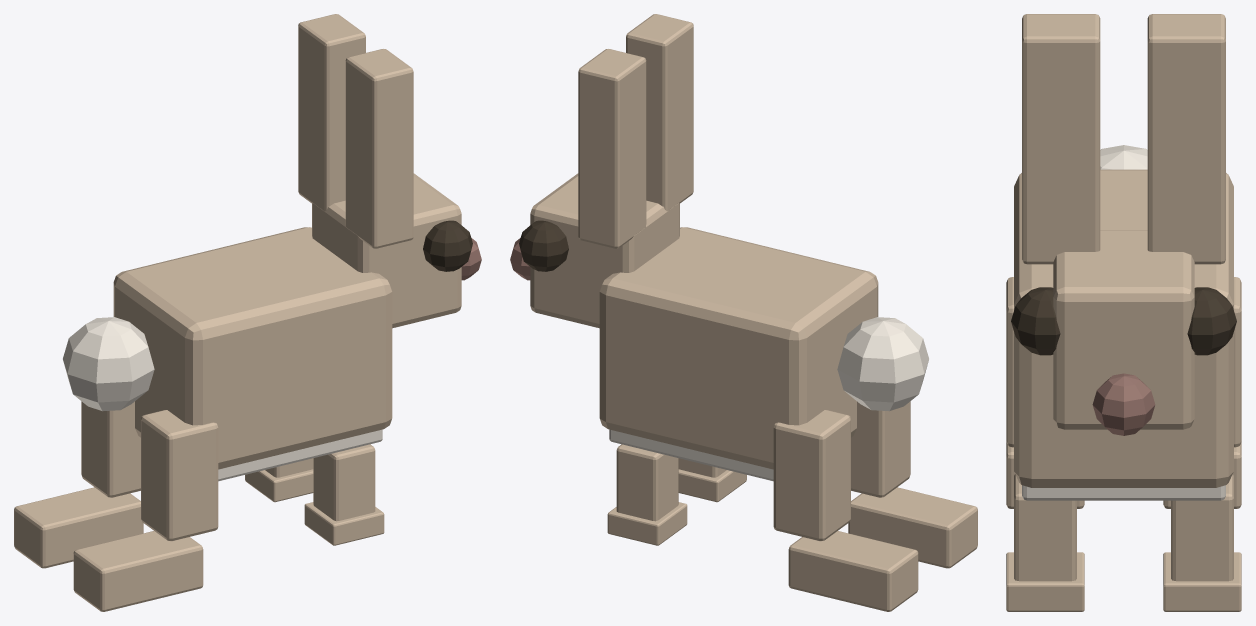
Rendered from hare_v2.glb.
3 renders of one model, left to right at view 1: azimuth 30°, elevation 25°; view 2: azimuth 150°, elevation 25°; view 3: azimuth 270°, elevation 25°, orthographic. The views are drawn at different scales.
Parts seen in each view (by area): view 1: Body_Mesh, Ear_L, Ear_R, Head_Mesh, LegBL_Thigh, LegBL_Foot, LegBR_Foot, Tail_Mesh, LegBR_Thigh, LegFL_Shaft, Body_Belly, LegFL_Foot (+2 smaller); view 2: Body_Mesh, Ear_R, Ear_L, Head_Mesh, LegBR_Thigh, LegBR_Foot, LegBL_Foot, Tail_Mesh, LegBL_Thigh, LegFR_Shaft, Body_Belly, LegFR_Foot (+2 smaller); view 3: Body_Mesh, Head_Mesh, Ear_L, Ear_R, LegFL_Shaft, LegFR_Shaft, Nose, LegFL_Foot, LegFR_Foot, Body_Belly, Eye_L, Eye_R (+5 smaller).
Part boxes in pixels (left/top/right/bottom): Body_Mesh: left=113, top=227, right=392, bottom=469; Ear_L: left=345, top=49, right=413, bottom=248; Ear_R: left=298, top=14, right=365, bottom=211; Head_Mesh: left=312, top=173, right=461, bottom=328; LegBL_Thigh: left=141, top=410, right=218, bottom=541; LegBL_Foot: left=73, top=531, right=203, bottom=611; LegBR_Foot: left=14, top=487, right=143, bottom=568; Tail_Mesh: left=63, top=317, right=154, bottom=411; LegBR_Thigh: left=81, top=401, right=140, bottom=497; LegFL_Shaft: left=313, top=444, right=375, bottom=521; Body_Belly: left=218, top=429, right=382, bottom=481; LegFL_Foot: left=304, top=502, right=384, bottom=545; Body_Mesh: left=599, top=227, right=878, bottom=469; Ear_R: left=578, top=49, right=646, bottom=248; Ear_L: left=626, top=14, right=693, bottom=211; Head_Mesh: left=530, top=173, right=679, bottom=328; LegBR_Thigh: left=773, top=410, right=850, bottom=541; LegBR_Foot: left=788, top=531, right=918, bottom=611; LegBL_Foot: left=848, top=487, right=977, bottom=568; Tail_Mesh: left=837, top=317, right=928, bottom=411; LegBL_Thigh: left=851, top=401, right=910, bottom=497; LegFR_Shaft: left=616, top=444, right=678, bottom=521; Body_Belly: left=609, top=429, right=773, bottom=481; LegFR_Foot: left=607, top=502, right=687, bottom=545; Body_Mesh: left=1014, top=169, right=1233, bottom=487; Head_Mesh: left=1053, top=230, right=1194, bottom=429; Ear_L: left=1022, top=14, right=1100, bottom=264; Ear_R: left=1147, top=14, right=1225, bottom=264; LegFL_Shaft: left=1014, top=474, right=1076, bottom=581; LegFR_Shaft: left=1171, top=474, right=1233, bottom=581; Nose: left=1092, top=373, right=1155, bottom=435; LegFL_Foot: left=1006, top=552, right=1084, bottom=611; LegFR_Foot: left=1163, top=552, right=1241, bottom=611; Body_Belly: left=1022, top=485, right=1225, bottom=500; Eye_L: left=1011, top=287, right=1060, bottom=355; Eye_R: left=1187, top=287, right=1236, bottom=355.
Size of the model in its own units: 0.41 by 0.43 by 0.15.
